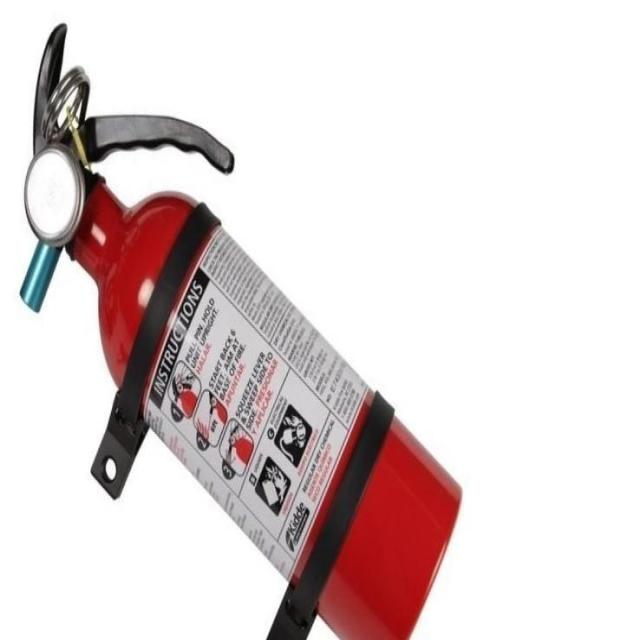fire_extinguisher: (12, 17, 470, 639)
